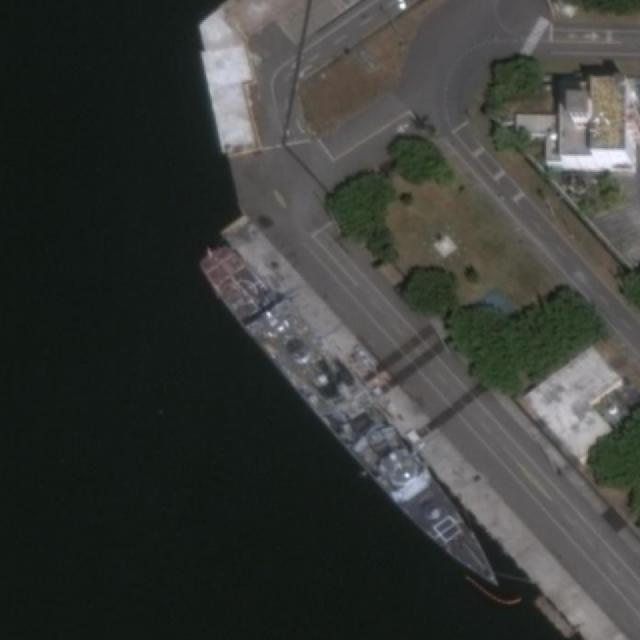Frigate: (193, 237, 514, 603)
